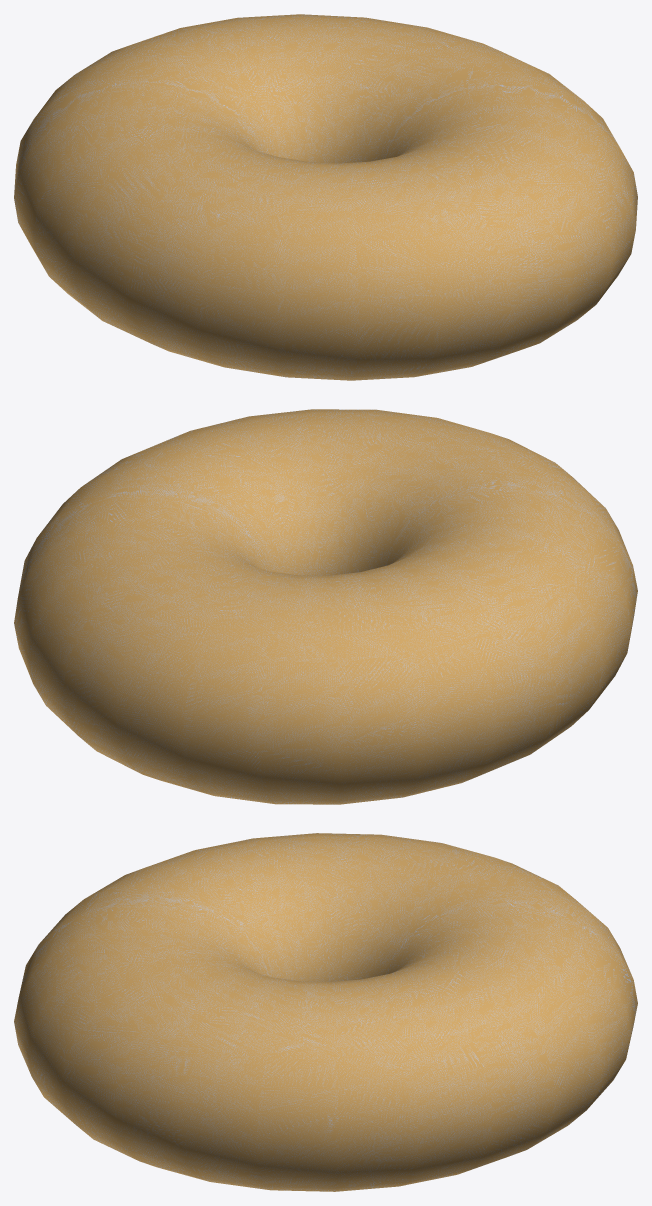
Rendered from donut1.dae.
3 renders of one model, top to bottom at view 1: azimuth 30°, elevation 25°; view 2: azimuth 150°, elevation 25°; view 3: azimuth 270°, elevation 25°, orthographic. The views are drawn at different scales.
Visible parts, largest first — view 1: instance_0; view 2: instance_0; view 3: instance_0.
Boxes of the visible parts, box(x1,y1,x2,y2) form: instance_0: box(14, 14, 637, 380); instance_0: box(14, 409, 637, 804); instance_0: box(14, 833, 637, 1191).
Bounding box in the file's own units: 0.1191 × 0.1277 × 0.0425.
